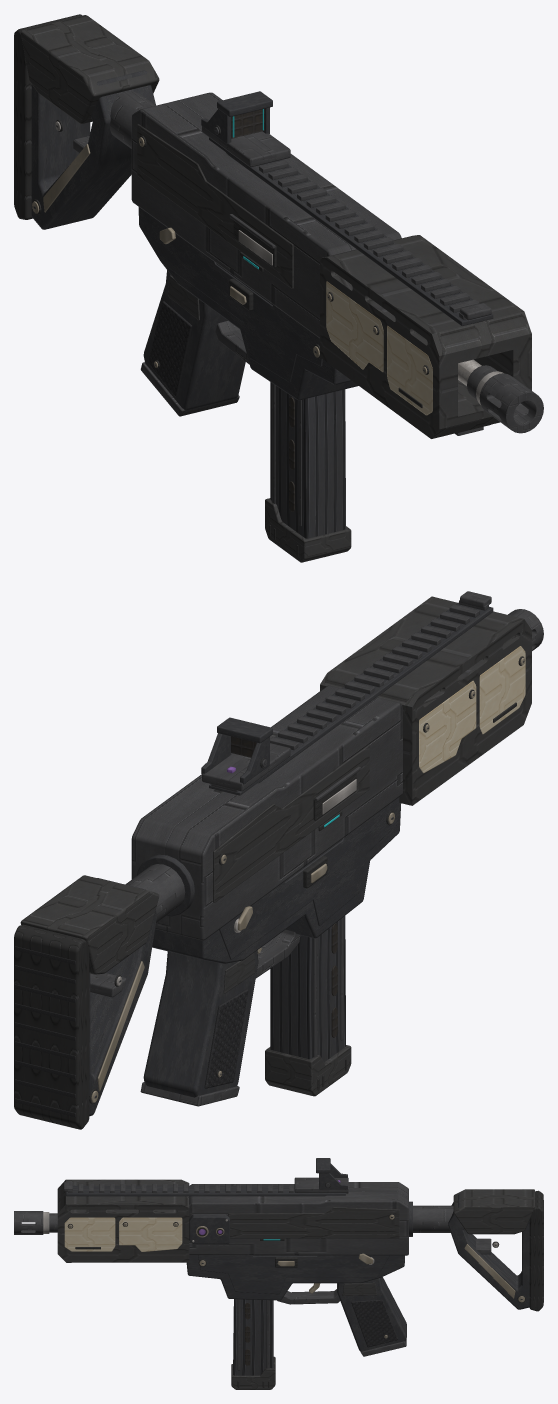
The model's file is SM_TunaWeapon_SMG_Premium.fbx.
The picture shows the model from 3 angles, top to bottom: view 1: azimuth 30°, elevation 25°; view 2: azimuth 150°, elevation 25°; view 3: azimuth 270°, elevation 25°; orthographic projection. The views are drawn at different scales.
Visible parts, largest first — view 1: SM_TunaWeapon_SMG_Premium; view 2: SM_TunaWeapon_SMG_Premium; view 3: SM_TunaWeapon_SMG_Premium.
Boxes of the visible parts, x1,y1,x2,y2 form: SM_TunaWeapon_SMG_Premium: (14, 14, 543, 562); SM_TunaWeapon_SMG_Premium: (14, 591, 543, 1129); SM_TunaWeapon_SMG_Premium: (14, 1158, 543, 1389).
Size of what is drawn, in the model's own units: 5.91 by 48.02 by 22.
